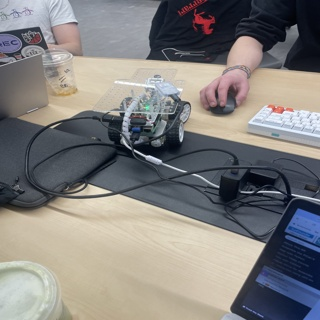vehicle: (101, 68, 189, 152)
